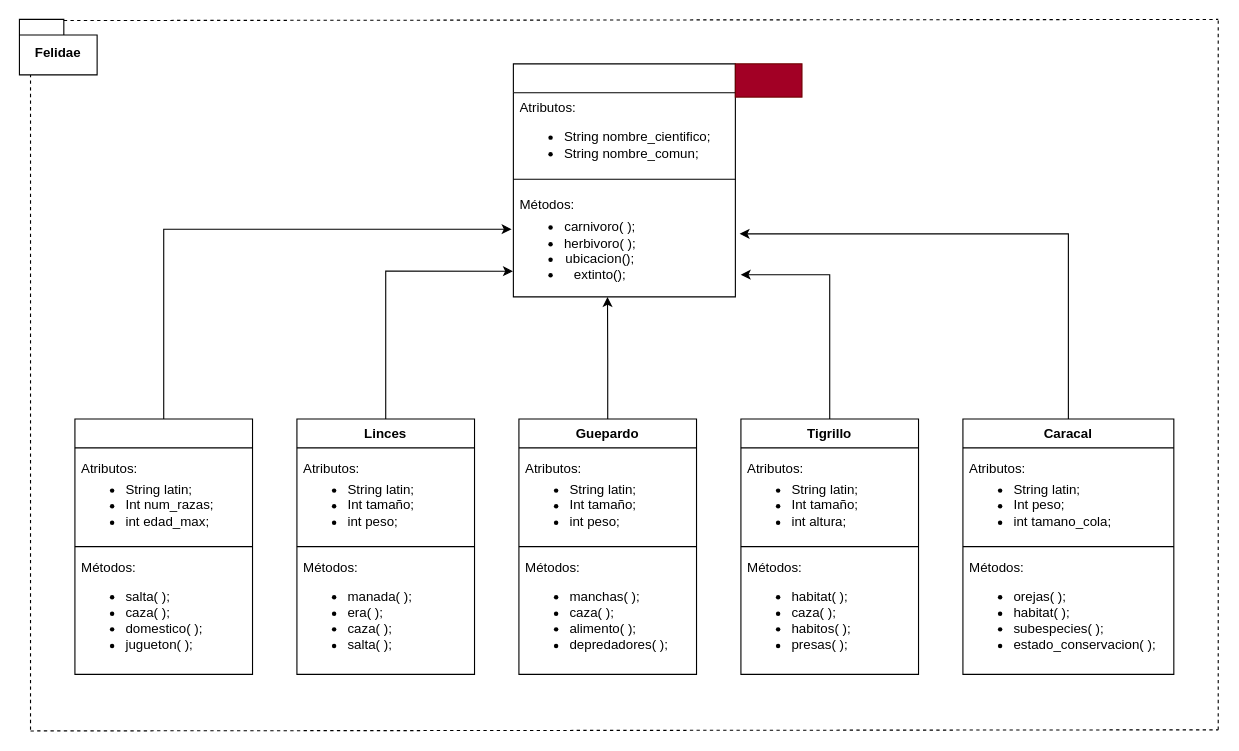
Image size: 1239x751. Some labels were removed from this diagram. The box of each missing label's shape, as (x1, y1, x2, y2) in pixels:
Felinos: (512, 63, 735, 297)
Gatos: (74, 418, 253, 674)
Superclass: (734, 63, 802, 97)
